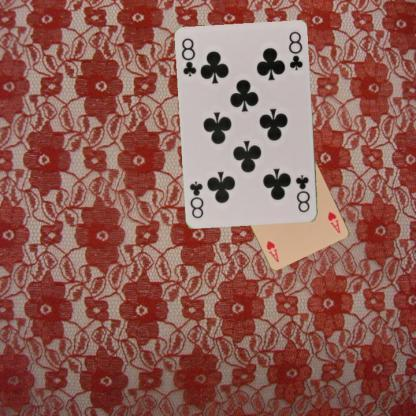8c: (179, 36, 198, 78), (293, 172, 311, 214)
Ah: (325, 209, 342, 235)
